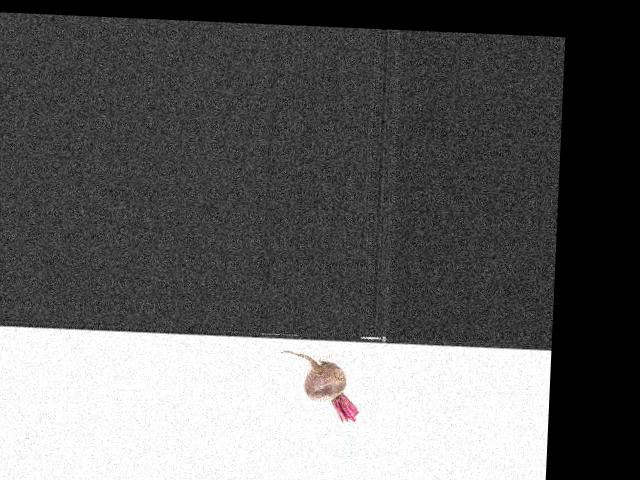beet: (277, 350, 360, 422)
